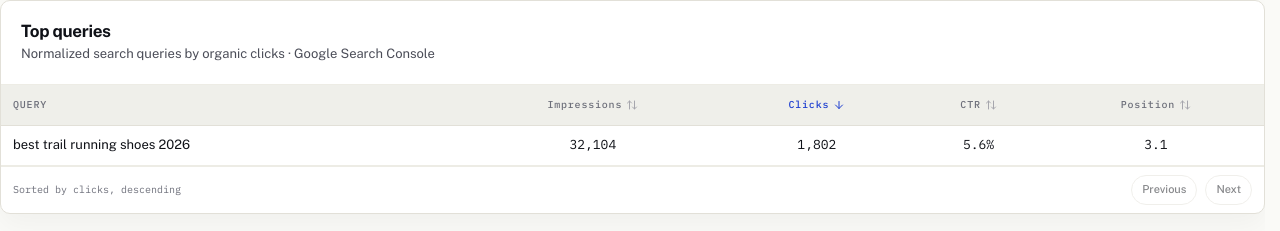
QueriesTable › sends the default -clicks sort and toggles columns on header click
expect the text "best trail running shoes 2026" is shown: met, box [1,125,461,165]
Click the button "Position": (1156, 105) [1121,99,1191,111]
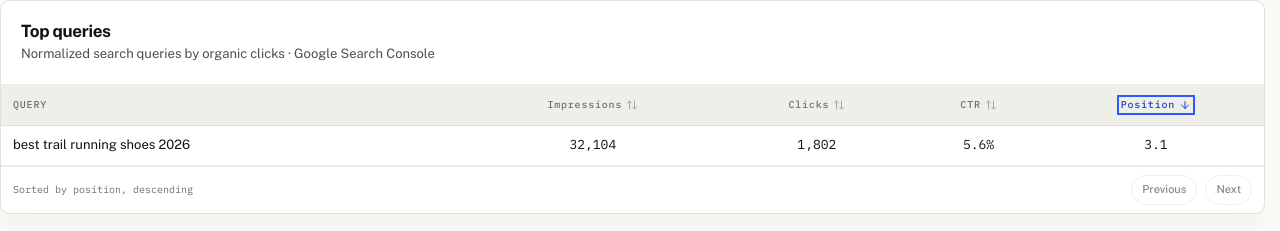
expect the column heading "Position" has attribute aria-sort="descending": met, box [1048,85,1264,125]
Click the button "Position": (1156, 105) [1121,99,1191,111]
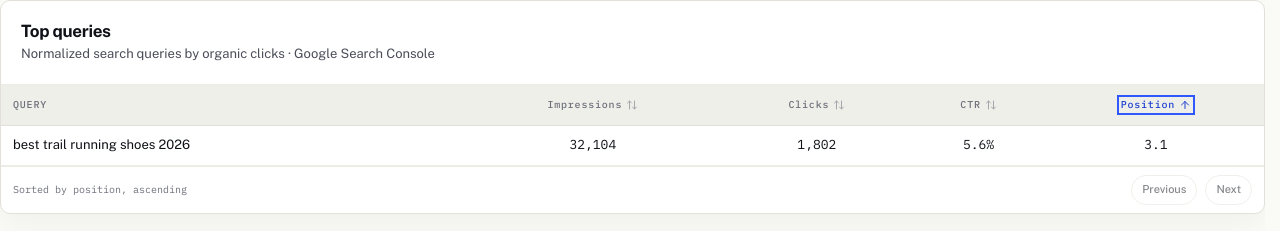
expect the text "Sorted by position, ascending" is shown: met, box [13,184,187,196]
